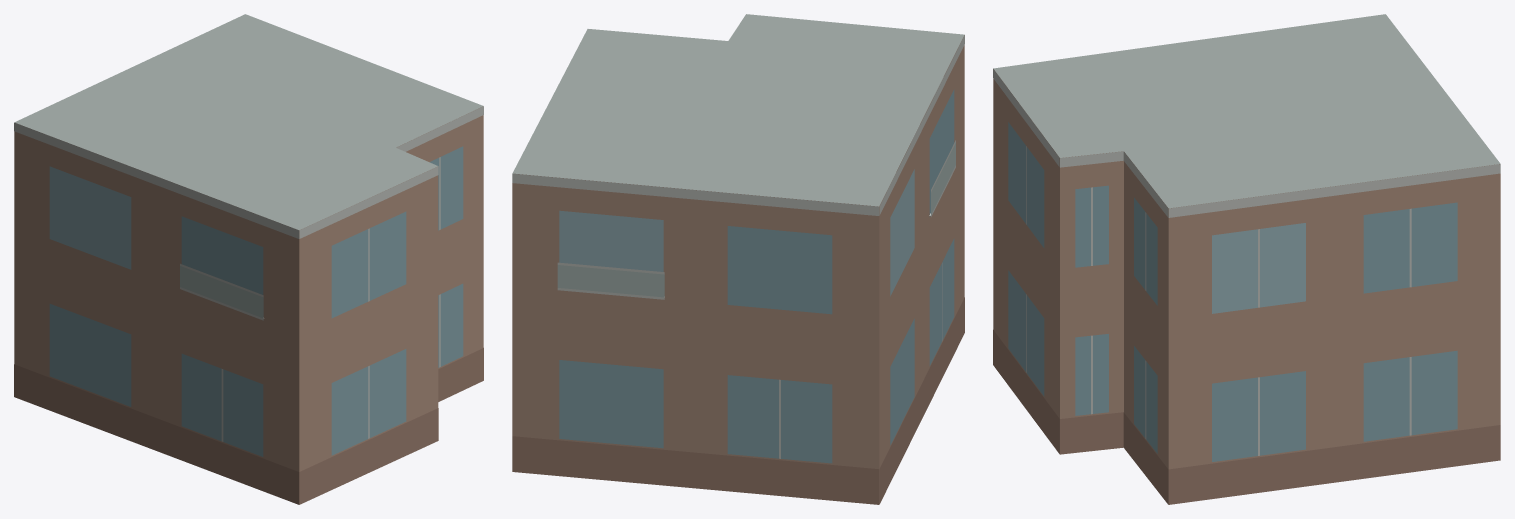
Rendered from survey-upis-32949079.glb.
3 views of the same model, side by side, from view 1: azimuth 30°, elevation 25°; view 2: azimuth 150°, elevation 25°; view 3: azimuth 270°, elevation 25° (orthographic). The views are drawn at different scales.
Visible parts, largest first — view 1: survey-upis-32949079.tmp; view 2: survey-upis-32949079.tmp; view 3: survey-upis-32949079.tmp.
Boxes of the visible parts, box(x1,y1,x2,y2) form: survey-upis-32949079.tmp: box(14, 14, 483, 504); survey-upis-32949079.tmp: box(512, 14, 964, 504); survey-upis-32949079.tmp: box(993, 14, 1500, 504).
Bounding box in the file's own units: 10.63 × 7.55 × 11.73.
